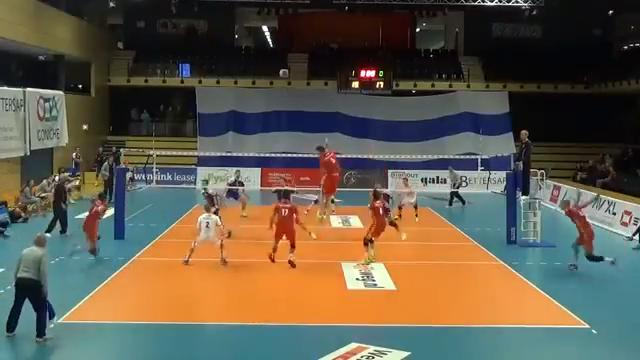Player: (559, 195, 615, 270), (268, 193, 315, 267), (183, 204, 229, 265), (363, 189, 387, 264), (316, 146, 339, 220), (375, 185, 405, 239), (83, 192, 106, 256), (225, 170, 248, 216), (395, 177, 418, 221), (202, 187, 222, 215), (272, 178, 295, 201), (304, 191, 321, 214), (272, 187, 295, 201)
